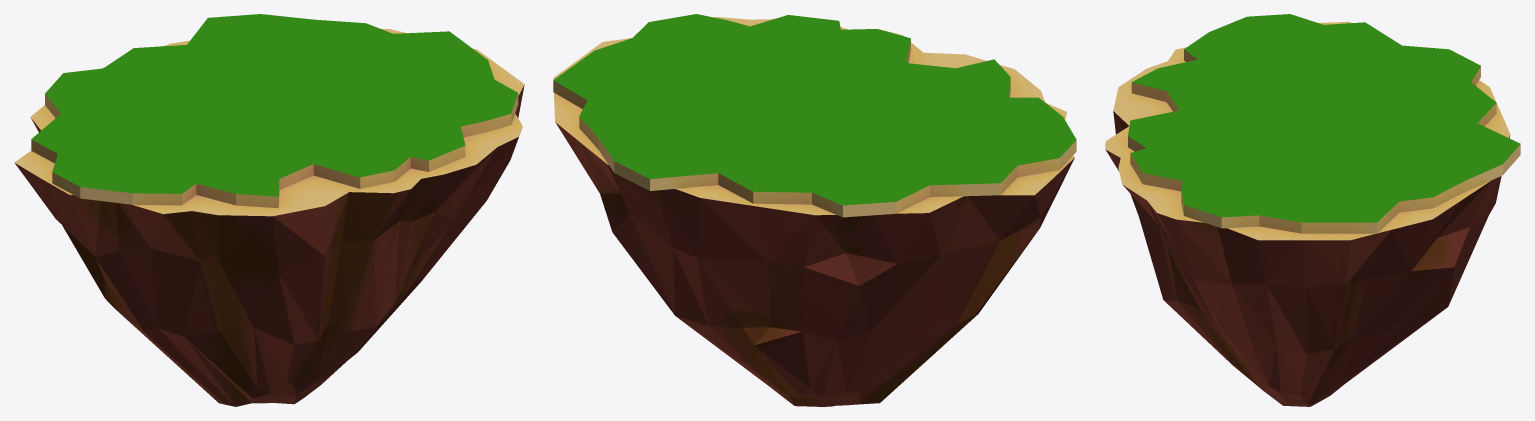
Rendered from floating_island.fbx.
3 renders of one model, left to right at view 1: azimuth 30°, elevation 25°; view 2: azimuth 150°, elevation 25°; view 3: azimuth 270°, elevation 25°, orthographic. The views are drawn at different scales.
Parts seen in each view (by area): view 1: floating_island; view 2: floating_island; view 3: floating_island.
Part boxes in pixels (<box>): floating_island: <box>14,14,524,406</box>; floating_island: <box>553,14,1076,406</box>; floating_island: <box>1105,14,1520,406</box>.
Bounding box in the file's own units: 3823 × 2267 × 3070.
1 material, 1 textured.
